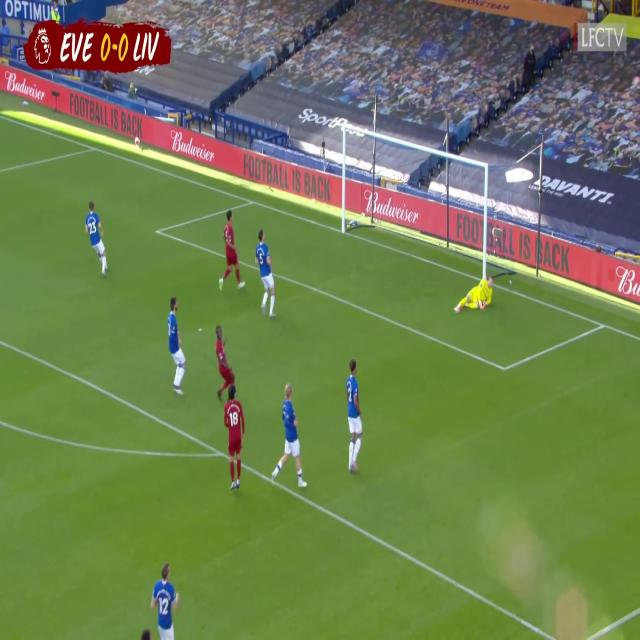team1: (224, 388, 246, 493), (218, 210, 246, 290), (213, 322, 240, 404)
team2: (272, 384, 307, 488), (150, 564, 186, 640), (346, 359, 366, 477), (255, 231, 279, 321), (166, 296, 187, 398), (86, 203, 110, 281)
